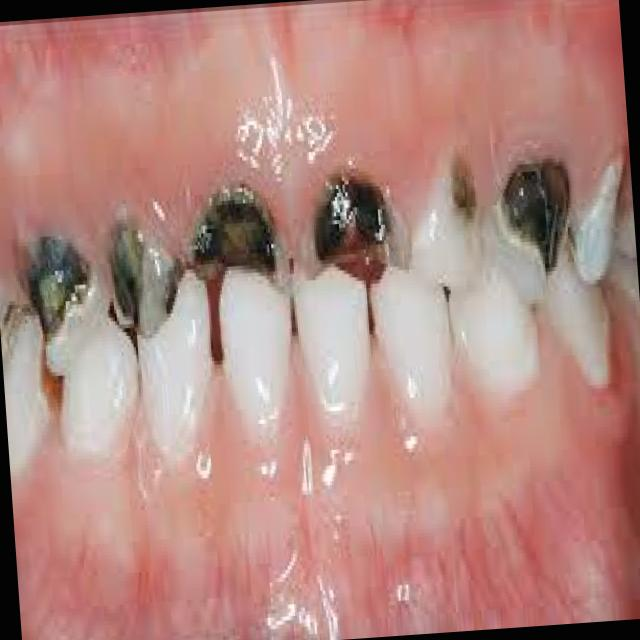caries: (303, 154, 408, 288), (492, 148, 586, 292), (103, 197, 190, 348), (16, 222, 103, 372), (185, 178, 286, 298)
